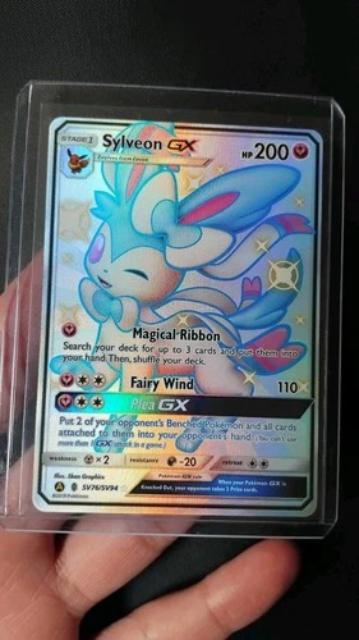Card: (28, 109, 325, 518)
Name: (96, 128, 202, 157)
